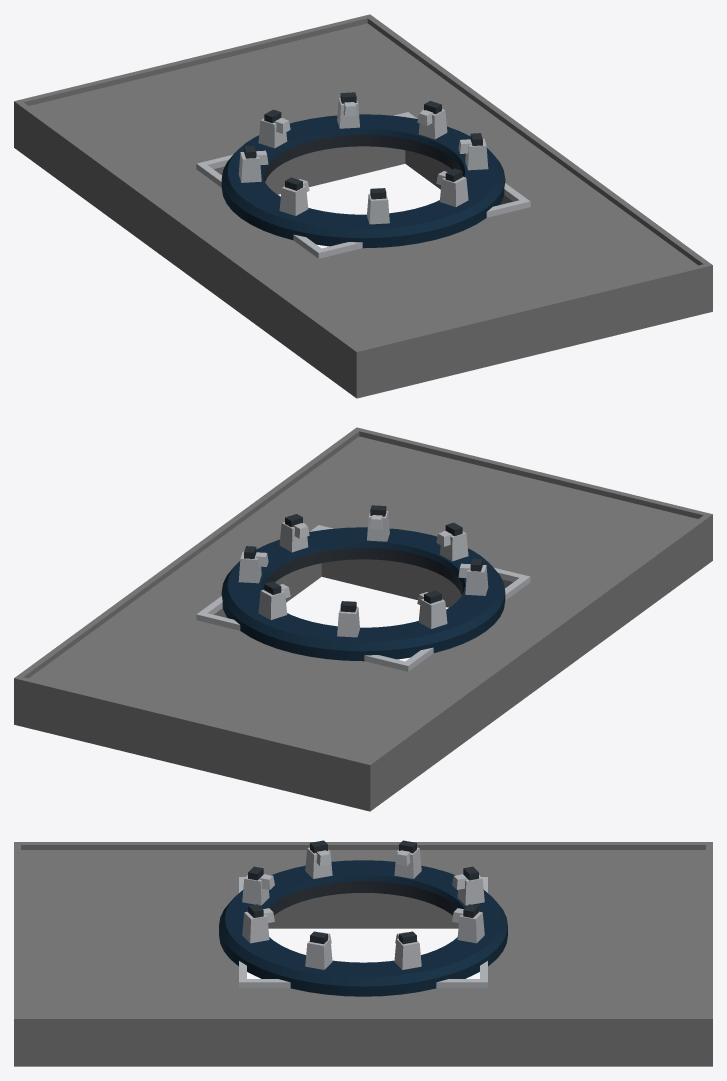
The model's file is world_pad_deck.glb.
3 views of the same model, one above another, from view 1: azimuth 30°, elevation 25°; view 2: azimuth 150°, elevation 25°; view 3: azimuth 270°, elevation 25° (orthographic).
Visible parts, largest first — view 1: world_pad_deck_mesh; view 2: world_pad_deck_mesh; view 3: world_pad_deck_mesh.
Boxes of the visible parts, box(x1,y1,x2,y2) form: world_pad_deck_mesh: box(14, 14, 712, 398); world_pad_deck_mesh: box(14, 427, 712, 811); world_pad_deck_mesh: box(14, 840, 712, 1066).
Size of the model in its own units: 18 by 4.2 by 30.
